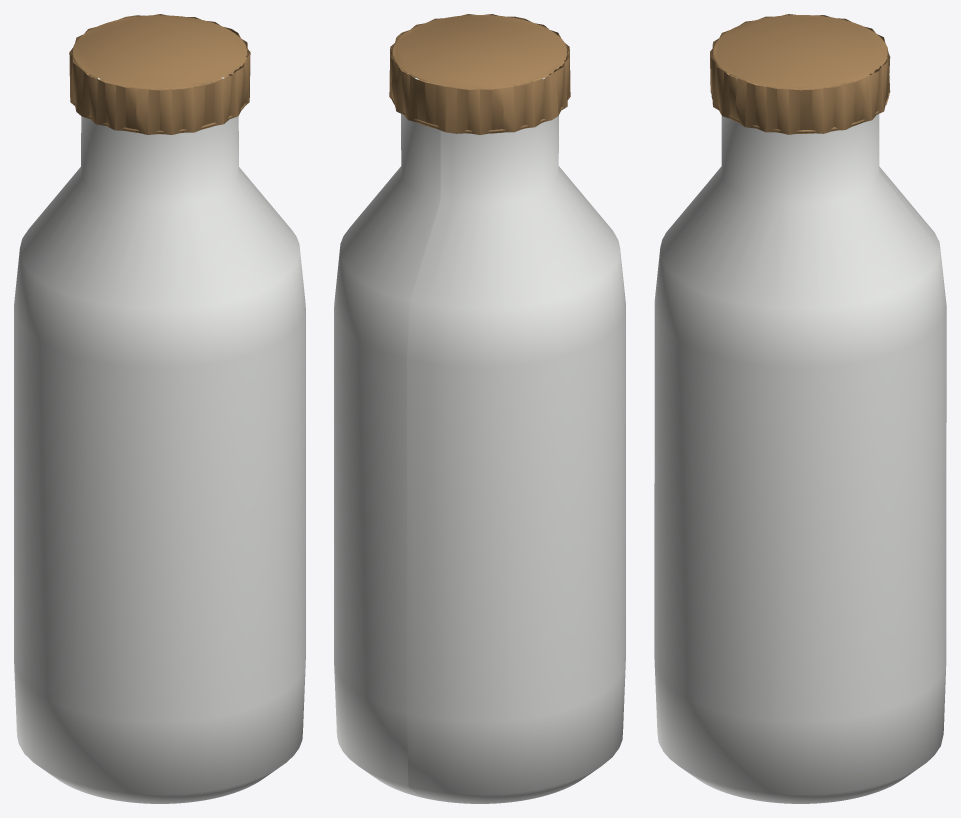
The picture shows the model from 3 angles, left to right: view 1: azimuth 30°, elevation 25°; view 2: azimuth 150°, elevation 25°; view 3: azimuth 270°, elevation 25°; orthographic projection.
Parts seen in each view (by area): view 1: thin shell with corrected shoulder, removable closure; view 2: thin shell with corrected shoulder, removable closure; view 3: thin shell with corrected shoulder, removable closure.
Boxes of the visible parts, x1=… form: thin shell with corrected shoulder: x1=14, y1=116, x2=305, y2=803; removable closure: x1=69, y1=14, x2=250, y2=134; thin shell with corrected shoulder: x1=334, y1=114, x2=625, y2=803; removable closure: x1=389, y1=14, x2=570, y2=134; thin shell with corrected shoulder: x1=654, y1=114, x2=946, y2=803; removable closure: x1=710, y1=14, x2=890, y2=134.
Bounding box in the file's own units: 0.086 × 0.2281 × 0.086.
